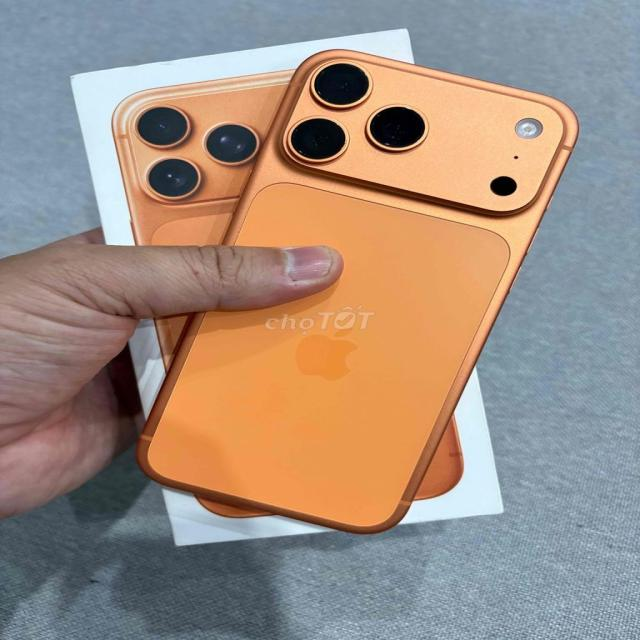gen_17: (130, 34, 594, 528)
